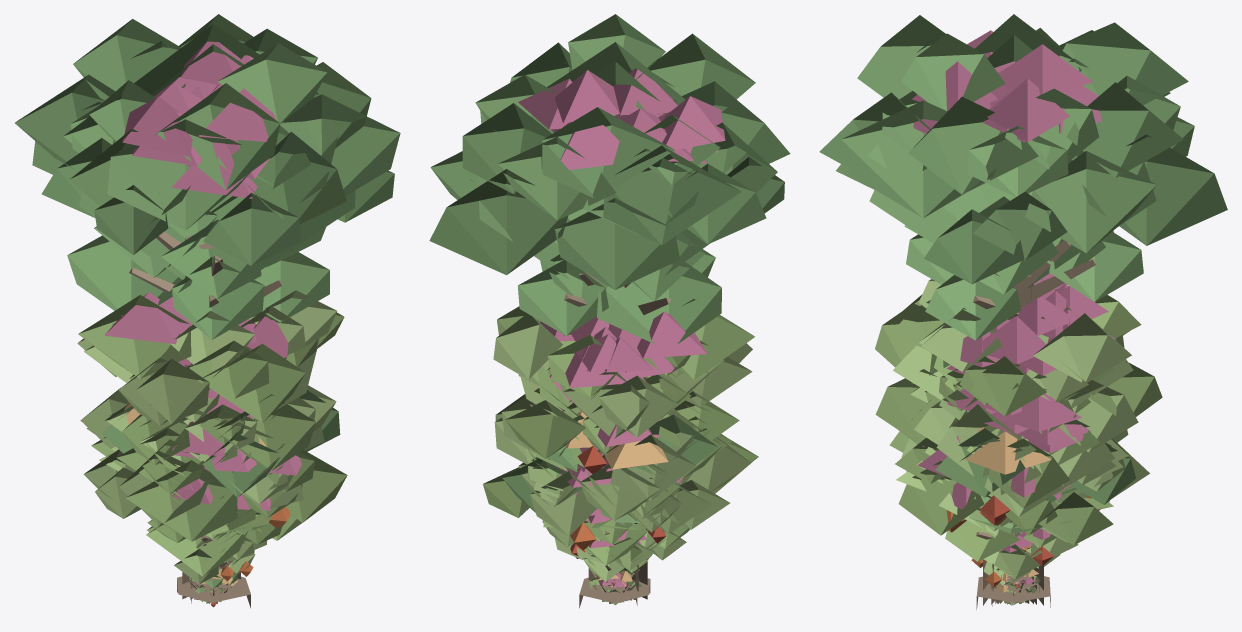
Rendered from bloom.glb.
3 views of the same model, side by side, from view 1: azimuth 30°, elevation 25°; view 2: azimuth 150°, elevation 25°; view 3: azimuth 270°, elevation 25° (orthographic). The views are drawn at different scales.
Parts seen in each view (by area): view 1: tree.trop.kapok__bloom, tree.trop.dipterocarp__bloom, tree.sub.camphor__bloom, tree.temp.willow__bloom, tree.temp.oak__bloom, tree.sub.paulownia__bloom, tree.trop.flame_tree__bloom, tree.trop.mango__bloom, tree.temp.plane_maple__bloom, tree.sub.citrus__bloom, tree.sub.acacia__bloom, tree.temp.ginkgo__bloom (+2 smaller); view 2: tree.trop.dipterocarp__bloom, tree.trop.kapok__bloom, tree.sub.camphor__bloom, tree.trop.flame_tree__bloom, tree.temp.willow__bloom, tree.sub.paulownia__bloom, tree.temp.oak__bloom, tree.trop.mango__bloom, tree.sub.citrus__bloom, tree.sub.tea_oil__bloom, tree.trop.baobab__bloom, tree.temp.plane_maple__bloom (+1 smaller); view 3: tree.trop.kapok__bloom, tree.trop.dipterocarp__bloom, tree.sub.camphor__bloom, tree.temp.oak__bloom, tree.temp.willow__bloom, tree.trop.flame_tree__bloom, tree.sub.paulownia__bloom, tree.trop.mango__bloom, tree.sub.citrus__bloom, tree.temp.plane_maple__bloom, tree.temp.birch__bloom, tree.trop.baobab__bloom (+3 smaller).
Part boxes in pixels (<box>): tree.trop.kapok__bloom: <box>15,14,371,599</box>; tree.trop.dipterocarp__bloom: <box>32,40,400,603</box>; tree.sub.camphor__bloom: <box>77,290,344,599</box>; tree.temp.willow__bloom: <box>91,437,347,599</box>; tree.temp.oak__bloom: <box>80,364,336,599</box>; tree.sub.paulownia__bloom: <box>112,306,317,599</box>; tree.trop.flame_tree__bloom: <box>86,390,340,599</box>; tree.trop.mango__bloom: <box>83,403,324,599</box>; tree.temp.plane_maple__bloom: <box>106,419,302,591</box>; tree.sub.citrus__bloom: <box>147,526,255,584</box>; tree.sub.acacia__bloom: <box>152,478,272,566</box>; tree.temp.ginkgo__bloom: <box>129,371,281,566</box>; tree.trop.dipterocarp__bloom: <box>429,61,790,605</box>; tree.trop.kapok__bloom: <box>462,14,777,599</box>; tree.sub.camphor__bloom: <box>493,299,754,599</box>; tree.trop.flame_tree__bloom: <box>494,406,751,600</box>; tree.temp.willow__bloom: <box>483,438,758,571</box>; tree.sub.paulownia__bloom: <box>518,316,752,579</box>; tree.temp.oak__bloom: <box>495,368,739,599</box>; tree.trop.mango__bloom: <box>521,409,732,600</box>; tree.sub.citrus__bloom: <box>555,532,686,581</box>; tree.sub.tea_oil__bloom: <box>542,508,667,558</box>; tree.trop.baobab__bloom: <box>579,518,650,608</box>; tree.temp.plane_maple__bloom: <box>518,416,722,590</box>; tree.trop.kapok__bloom: <box>819,14,1188,605</box>; tree.trop.dipterocarp__bloom: <box>836,35,1227,606</box>; tree.sub.camphor__bloom: <box>875,273,1162,604</box>; tree.temp.oak__bloom: <box>875,369,1138,604</box>; tree.temp.willow__bloom: <box>889,431,1149,603</box>; tree.trop.flame_tree__bloom: <box>903,390,1135,603</box>; tree.sub.paulownia__bloom: <box>891,283,1124,603</box>; tree.trop.mango__bloom: <box>895,396,1125,603</box>; tree.sub.citrus__bloom: <box>971,528,1078,587</box>; tree.temp.plane_maple__bloom: <box>906,441,1116,603</box>; tree.temp.birch__bloom: <box>927,316,1075,410</box>; tree.trop.baobab__bloom: <box>976,541,1050,609</box>.
Bounding box in the file's own units: 17.86 × 30.37 × 19.09.
